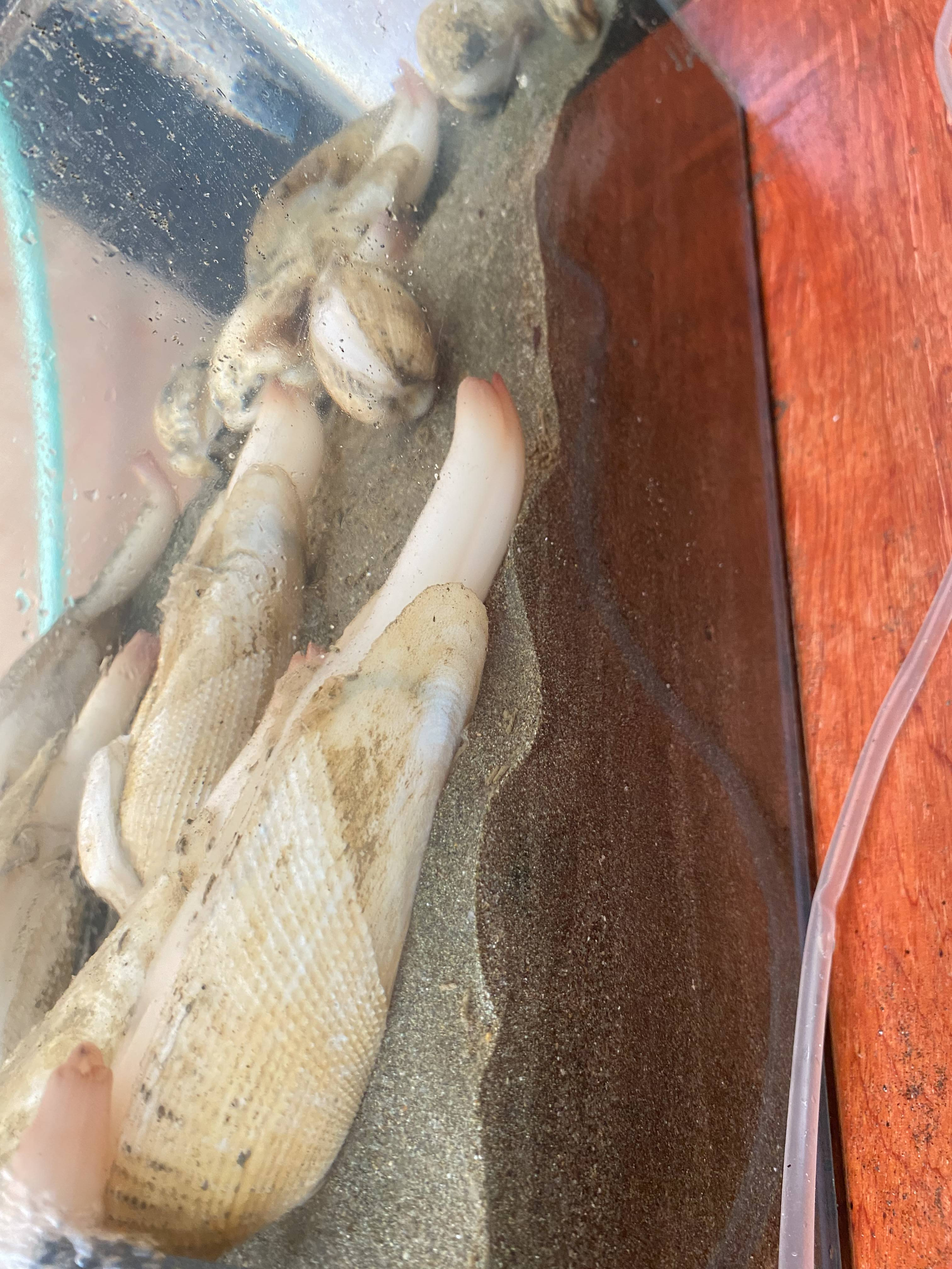Healthy: (107, 582, 487, 1254), (118, 385, 323, 883), (310, 264, 436, 424)
